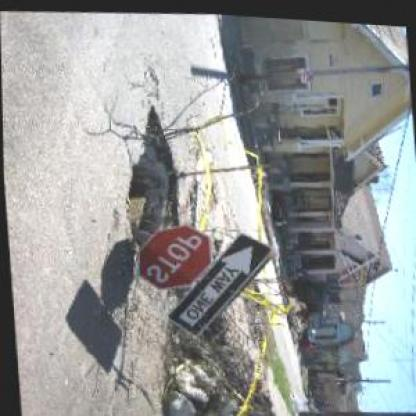pothole: (115, 96, 190, 254)
